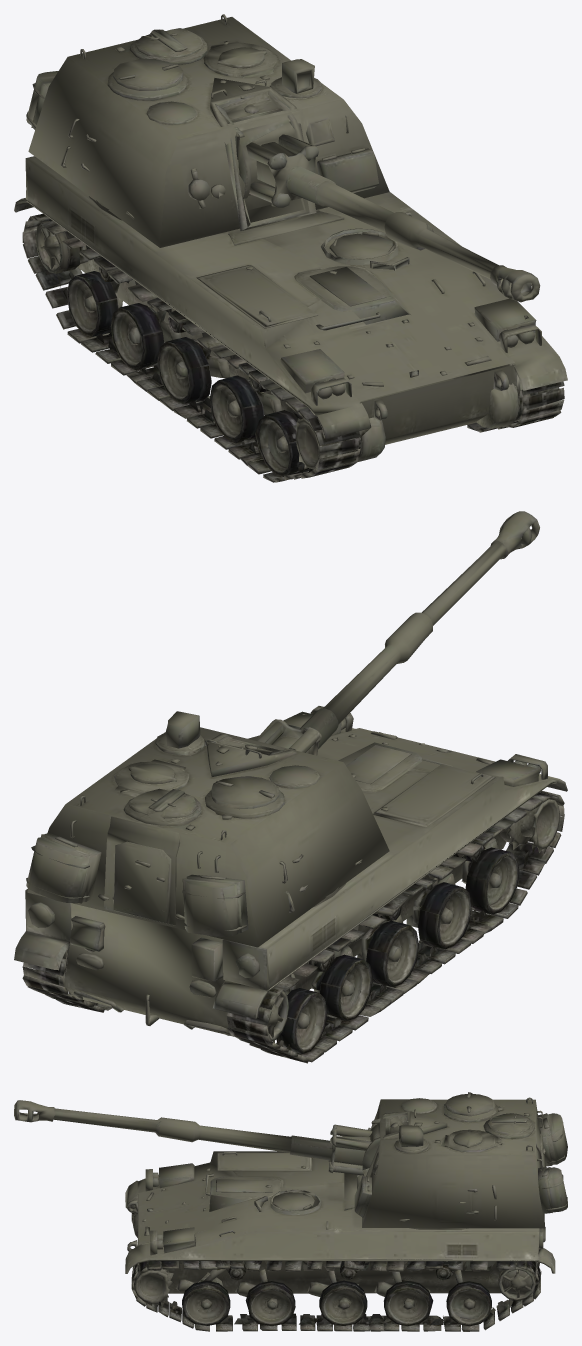
The model's file is artillery.glb.
3 renders of one model, top to bottom at view 1: azimuth 30°, elevation 25°; view 2: azimuth 150°, elevation 25°; view 3: azimuth 270°, elevation 25°, orthographic. The views are drawn at different scales.
Visible parts, largest first — view 1: hull, P_turret, P_barrel; view 2: hull, P_turret, P_barrel; view 3: hull, P_turret, P_barrel.
Part boxes in pixels (x1,y1,x2,y2): hull: (14,156,567,482); P_turret: (26,14,389,247); P_barrel: (270,146,540,302); hull: (14,706,567,1063); P_turret: (26,711,389,947); P_barrel: (273,511,539,755); hull: (125,1151,555,1331); P_turret: (304,1092,567,1228); P_barrel: (14,1100,361,1172).
Size of the model in its own units: 3.16 by 3.4 by 9.
Materials: 4 (3 with a texture image).
